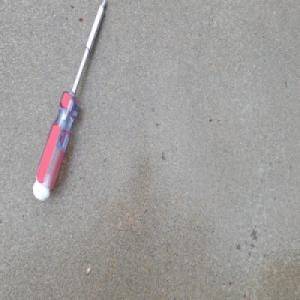Screwdriver: (32, 0, 107, 202)
